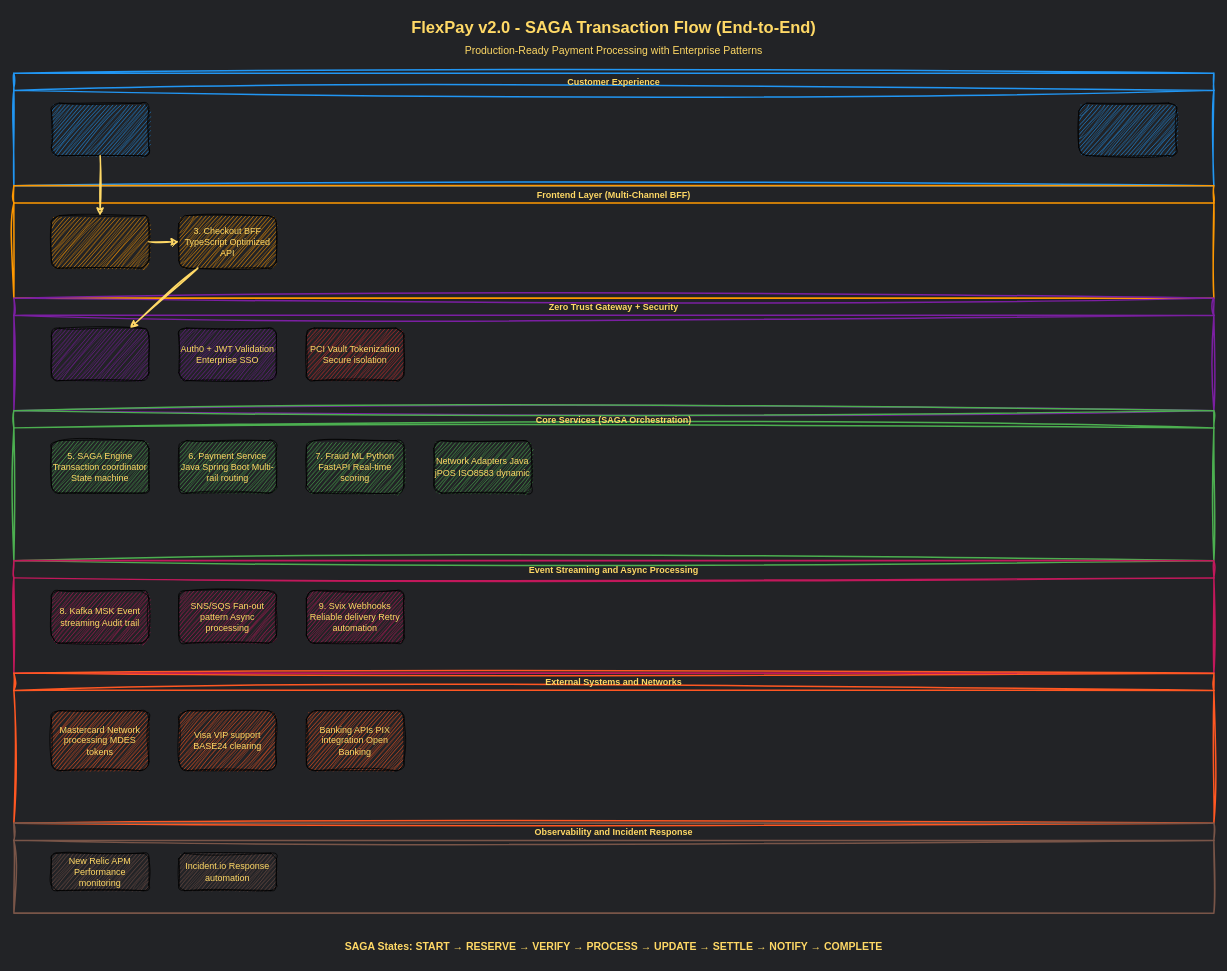
Image size: 1227x971. Some labels were removed from this diagram. The shapes that lost their labels are listed below. From the top down, each one's centre as x and y in pixels, then its label:
(x=100, y=129): 1. Customer Initiates Payment Card/PIX/Boleto
(x=1127, y=129): 12. Payment Confirmation Real-time status
(x=100, y=241): 2. Checkout Widget/SDK PCI-compliant
(x=100, y=354): 4. Kong Gateway Rate limiting Circuit breakers
